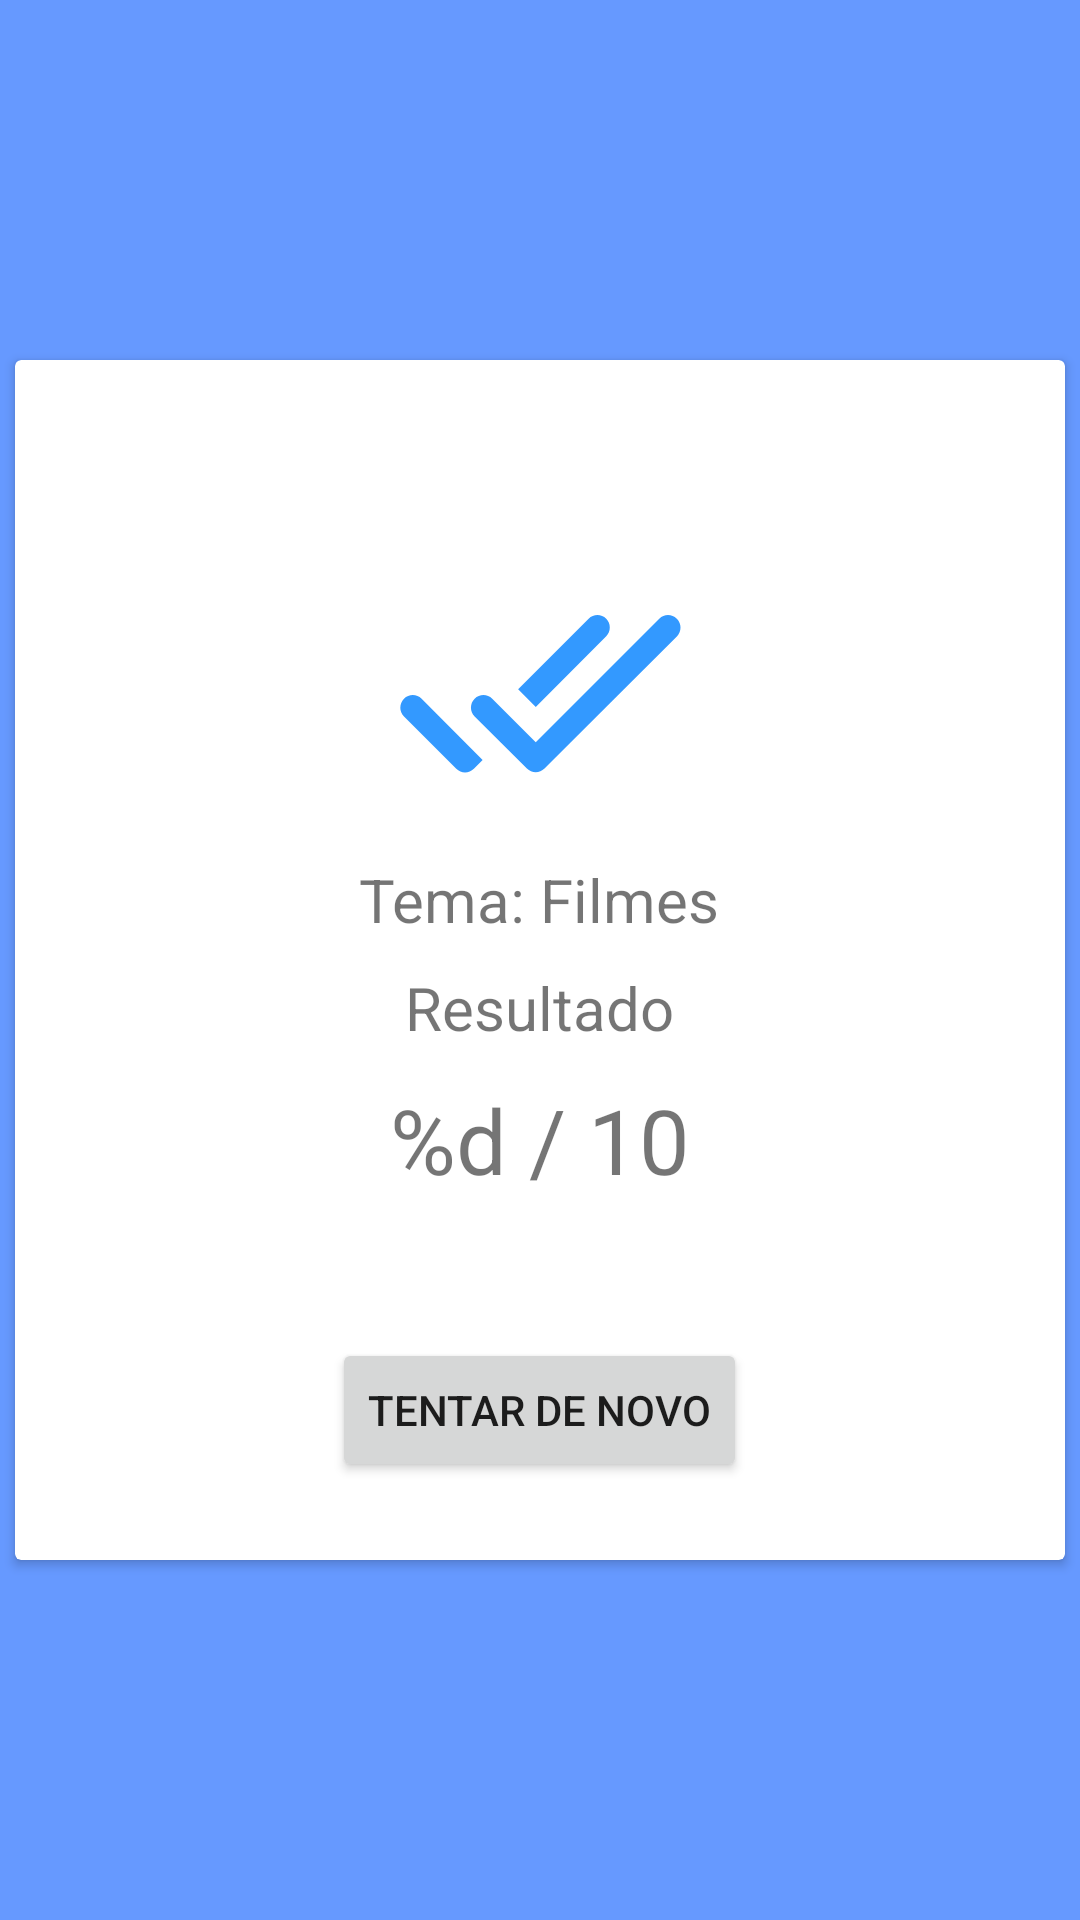

Named icons in this screenshot (1080 × 1920) and their centers, [x,y]:
done all: [540,694]
